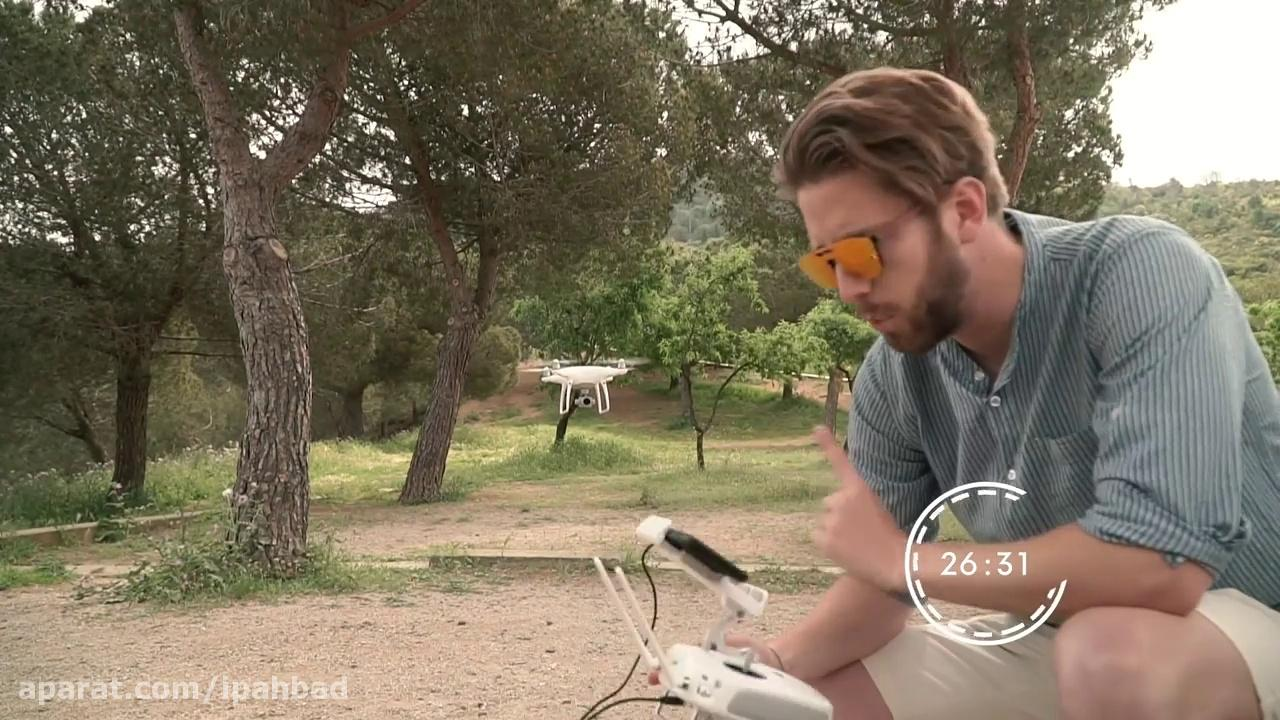drone: (515, 347, 651, 416)
